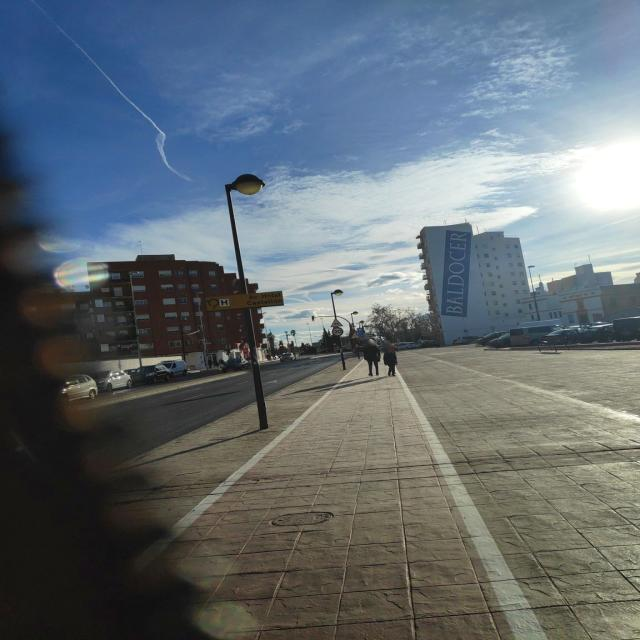car: (54, 373, 99, 402), (90, 369, 133, 392), (128, 364, 172, 385), (609, 316, 640, 342), (577, 325, 614, 343), (539, 329, 580, 345), (158, 359, 188, 376), (474, 332, 507, 346), (221, 357, 250, 372), (452, 335, 482, 345), (418, 339, 442, 348), (396, 342, 419, 349), (280, 353, 294, 361)
